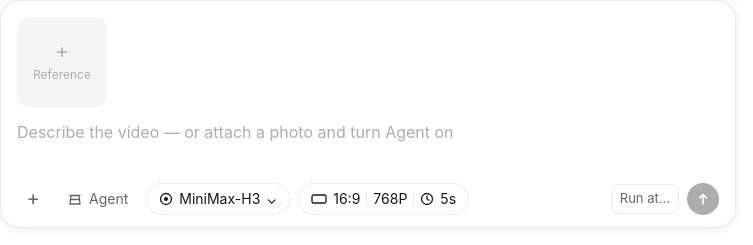
Composer › opens in video mode — the reference button, no tag (STORY_059) — and Send follows the text (STORY_058: no chip to click, no × to leave by)
This screenshot has width=753, height=245.
Expected: the button with aria-label "Model:" is enabled, [146,183,290,215]
Expected: the button with aria-label "Add reference image" is shown, [17,17,107,107]
In the text box named "Message": (368, 145) [17,119,719,171], type "A paper boat"
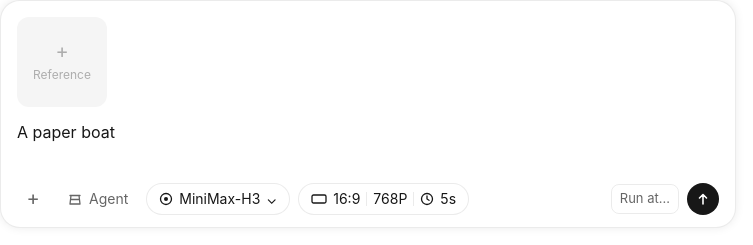
Result: the button named "Send message" is enabled at [687,183,719,215]
